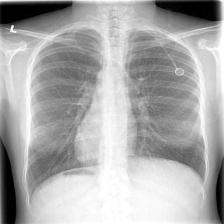normal: (22, 24, 210, 204)
